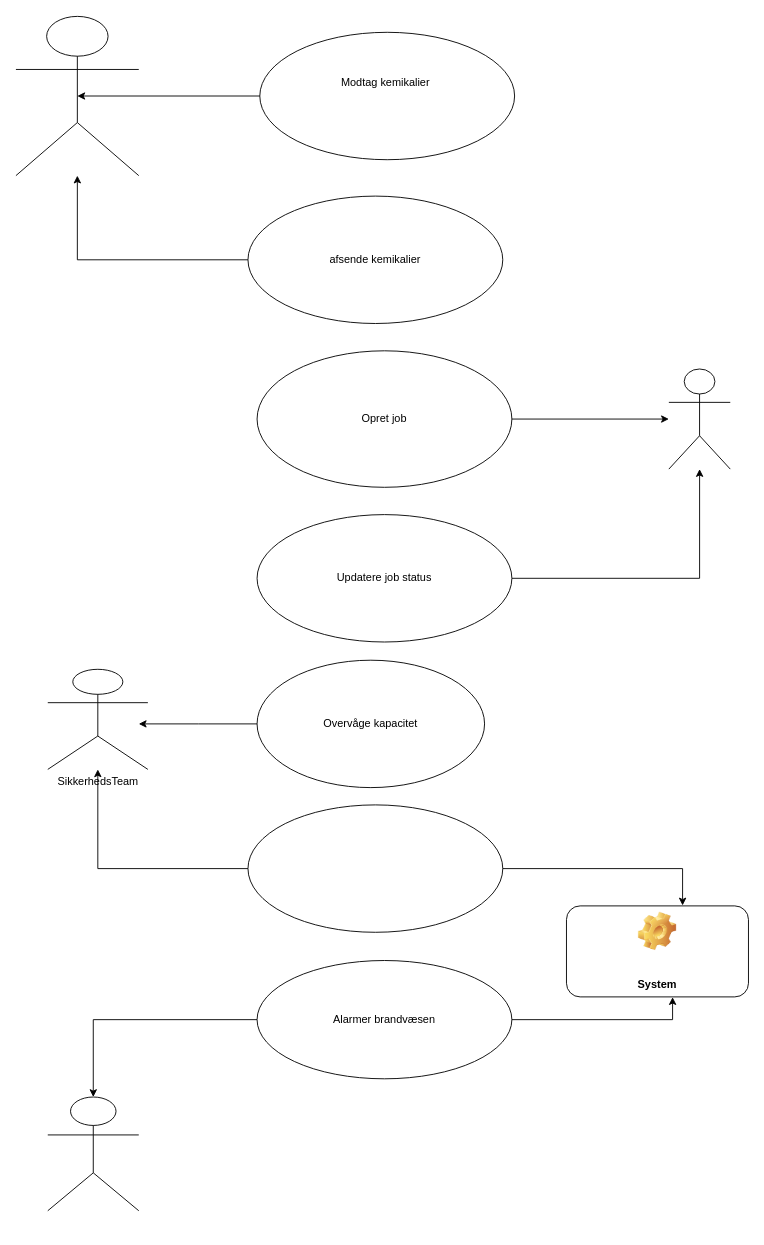
The diagram is 764 pixels wide and 1245 high, and some of its shapes have lost their labels. Here are the shapes that lost their labels. From the top down, the centre of each, then its label:
the point at 77,95: Chauffør
the point at 699,418: LagerPersonale
the point at 375,868: Generer revisondata
the point at 93,1153: Brandvæsen
